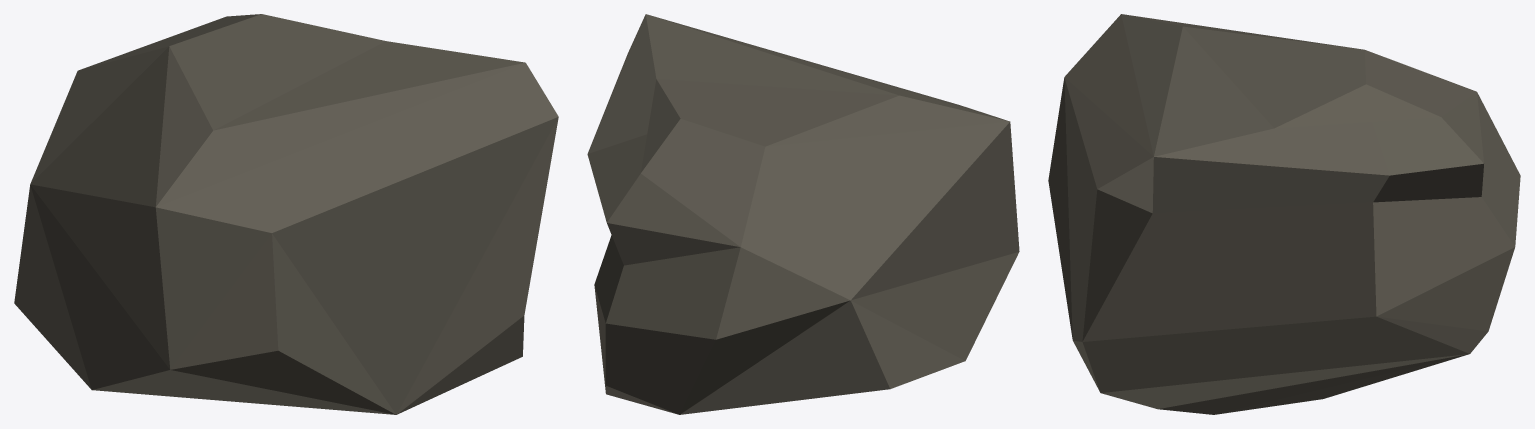
The model's file is synty-rock-02.gltf.
3 views of the same model, side by side, from view 1: azimuth 30°, elevation 25°; view 2: azimuth 150°, elevation 25°; view 3: azimuth 270°, elevation 25° (orthographic). The views are drawn at different scales.
Parts seen in each view (by area): view 1: SM_Rock_02; view 2: SM_Rock_02; view 3: SM_Rock_02.
Part boxes in pixels (bbox=[...]): SM_Rock_02: bbox=[14, 14, 558, 414]; SM_Rock_02: bbox=[587, 14, 1019, 414]; SM_Rock_02: bbox=[1048, 14, 1520, 414].
Bounding box in the file's own units: 0.3874 × 0.288 × 0.4046.
1 material, 1 textured.
